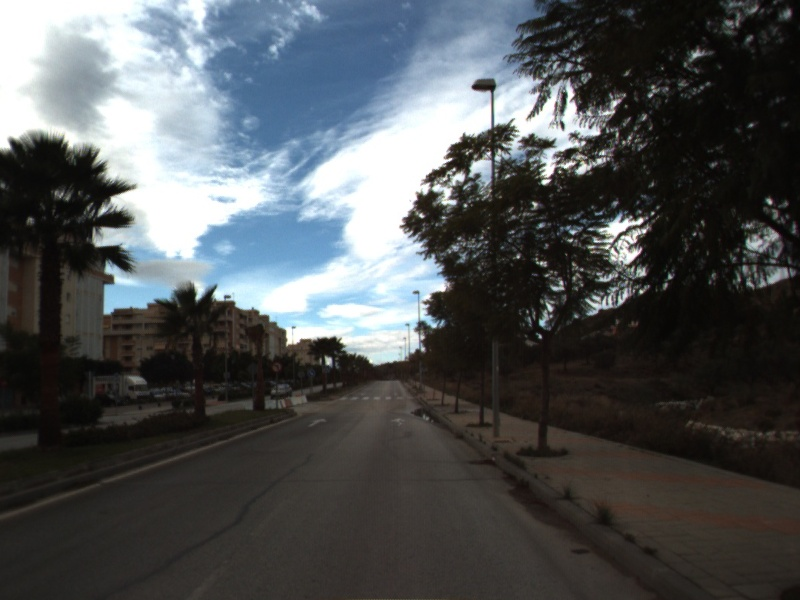STRAIGHT: (306, 416, 330, 429)
